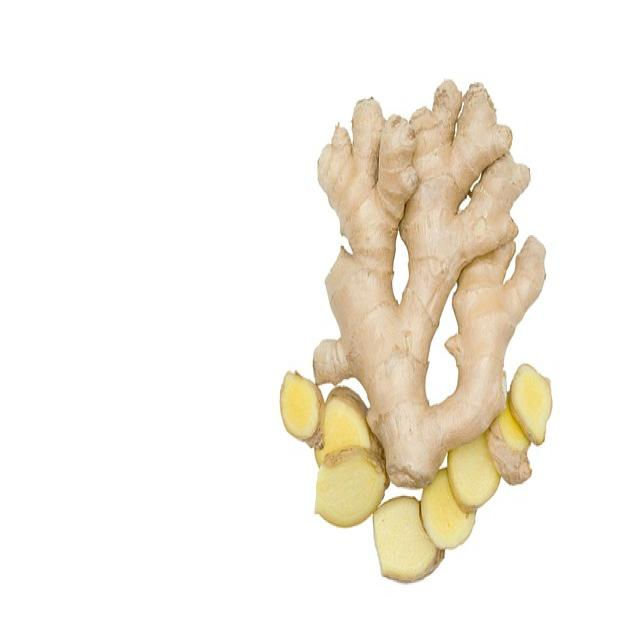ginger-root: (292, 69, 558, 496)
